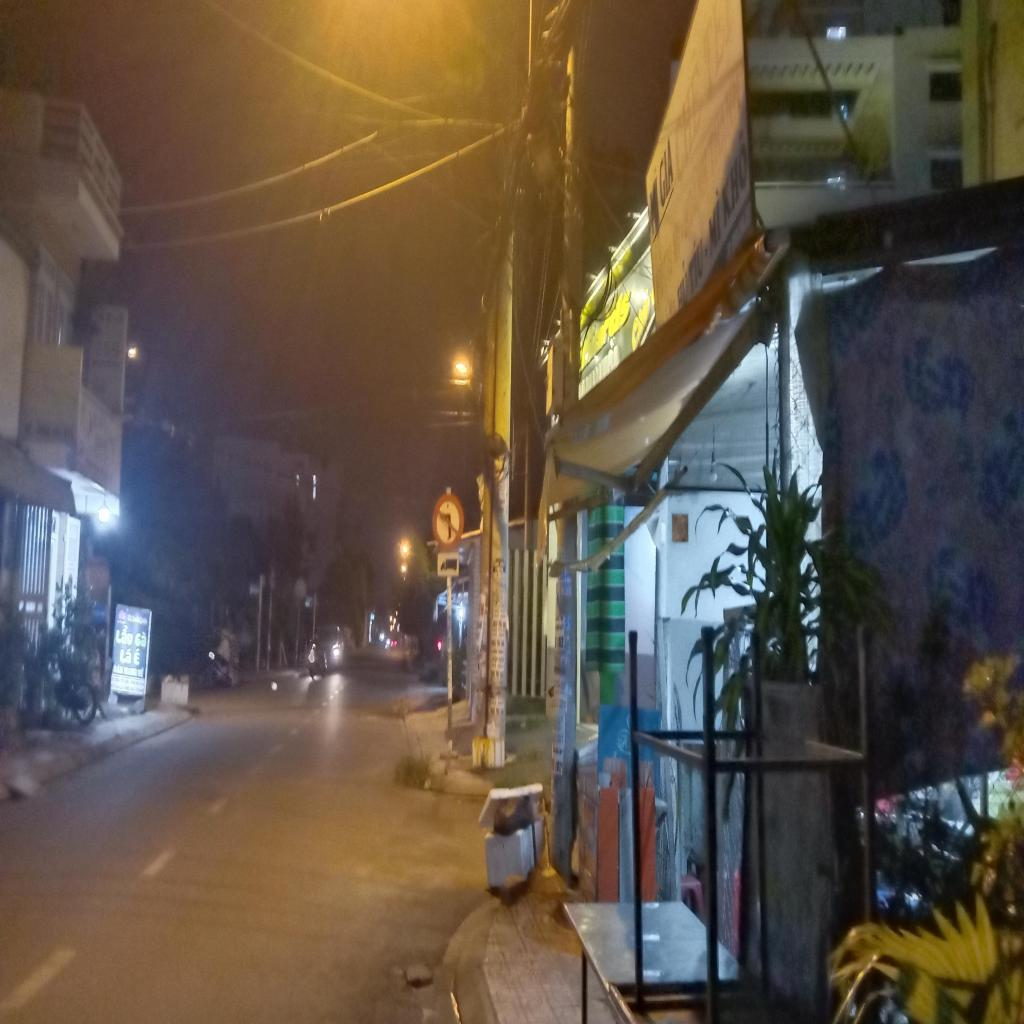cam_re_trai: (431, 493, 466, 552)
khac: (438, 553, 459, 578)
